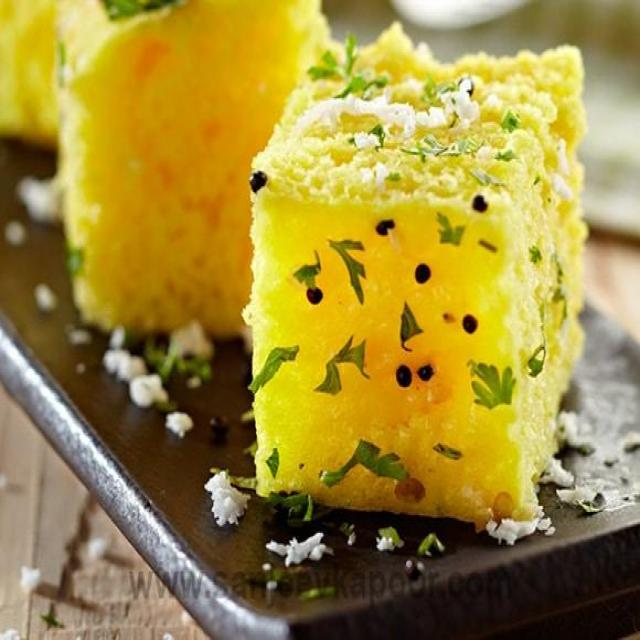dhokla: (243, 6, 594, 538), (3, 6, 363, 348)
